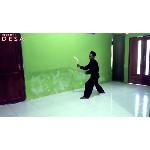Celurit: (70, 53, 82, 71)
